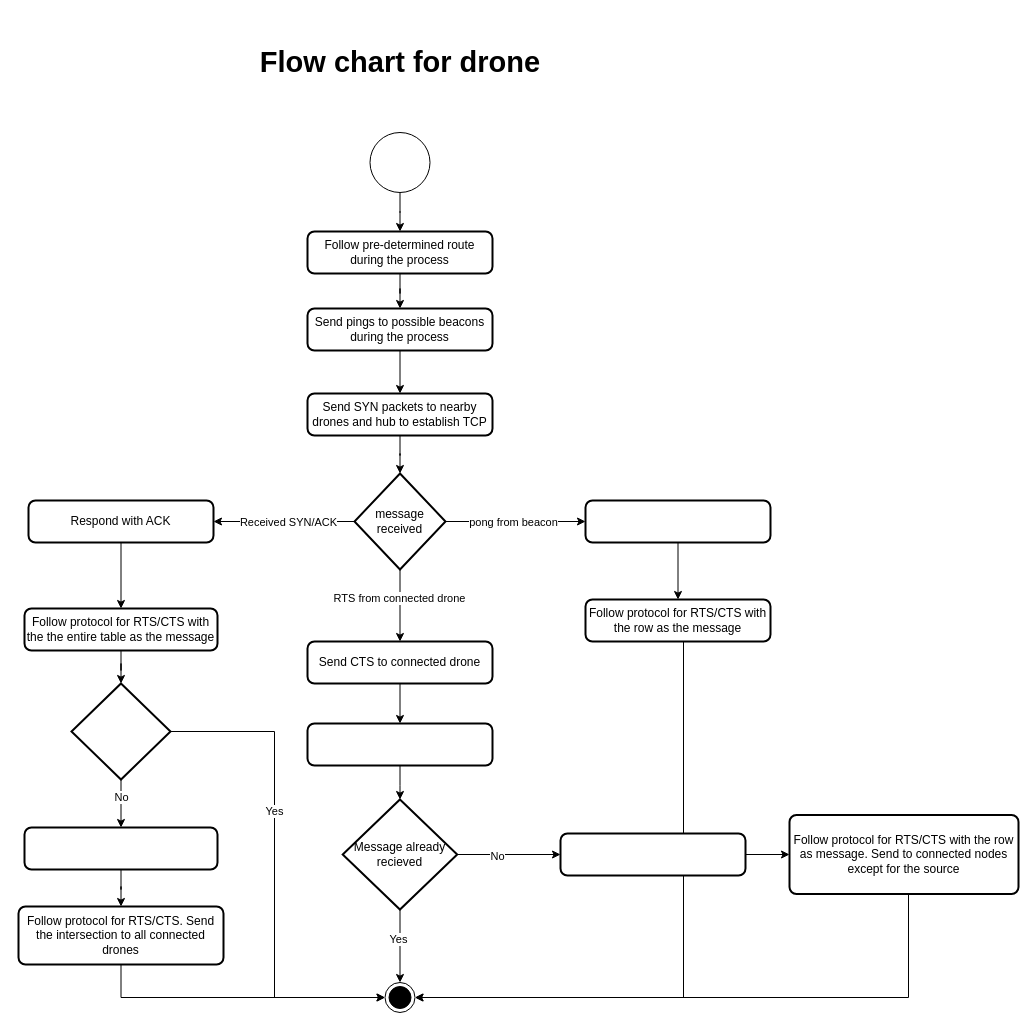
The diagram is 1036 pixels wide and 1030 high, and some of its shapes have lost their labels. The shapes that lost their labels are listed below. From the top down, each one's centre as x and y in pixels, then its label:
At (x=677, y=521): "Add new row to table".
At (x=120, y=731): "Table was sent instead of received".
At (x=399, y=744): "Receive message".
At (x=120, y=848): "Find intersection of received table and own table".
At (x=652, y=854): "Add row to table".
